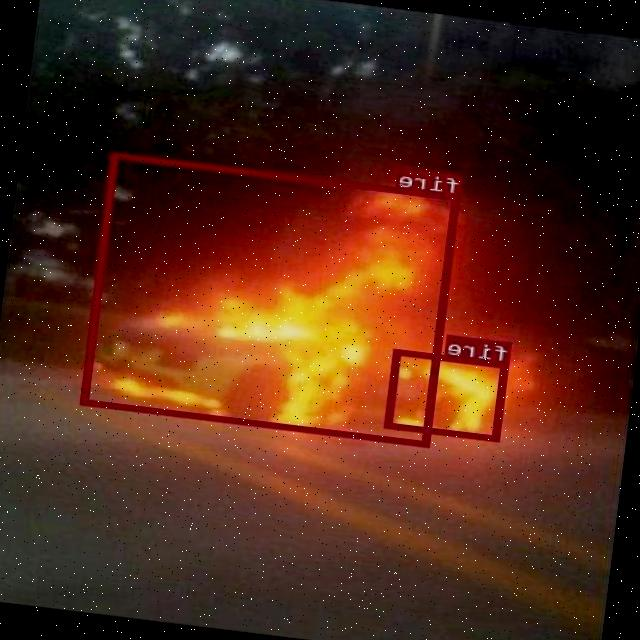fire: (82, 150, 461, 447), (385, 347, 510, 441)
